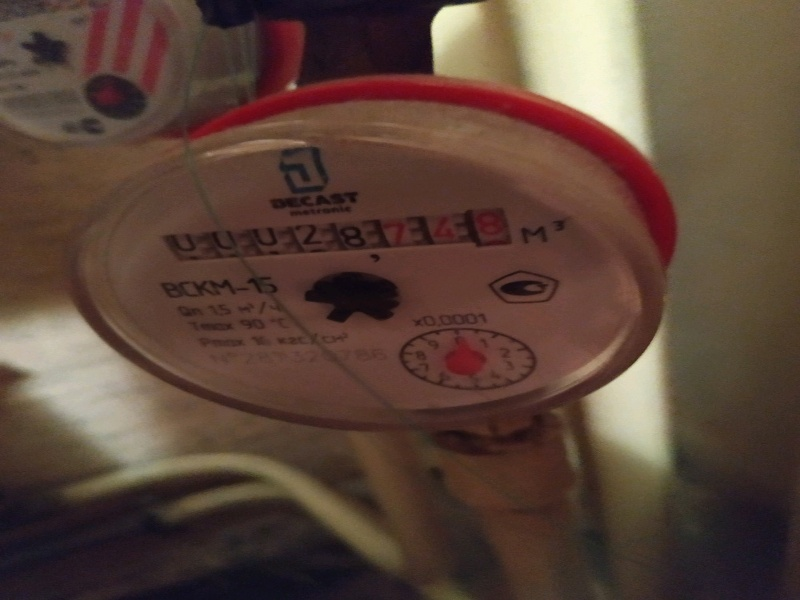dial: (139, 216, 503, 256)
